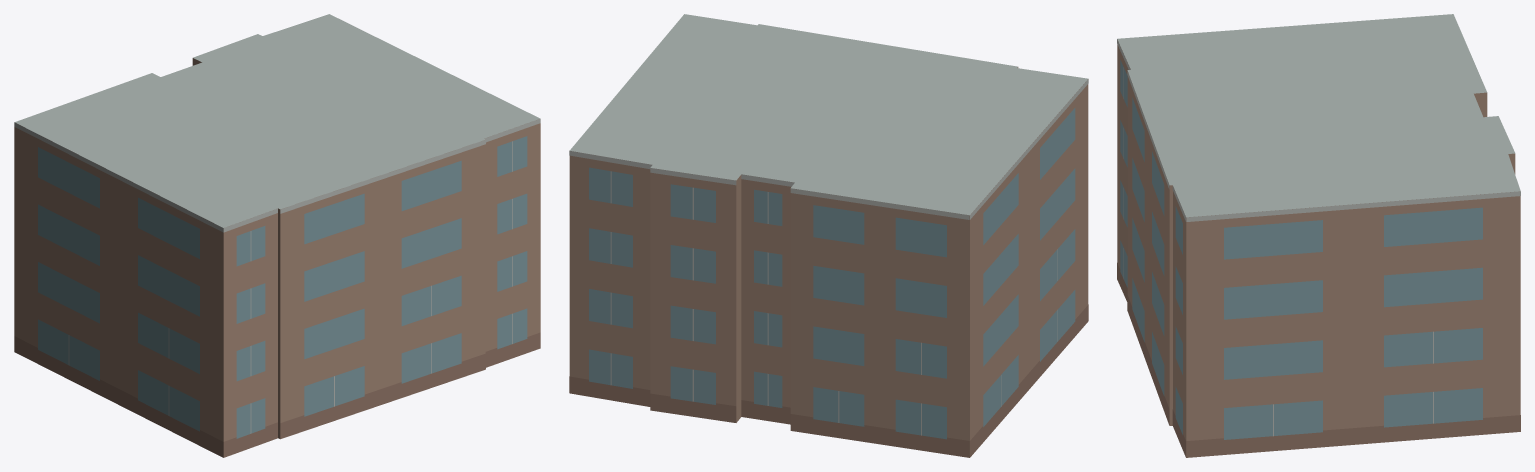
Rendered from survey-upis-32911848.glb.
3 renders of one model, left to right at view 1: azimuth 30°, elevation 25°; view 2: azimuth 150°, elevation 25°; view 3: azimuth 270°, elevation 25°, orthographic. The views are drawn at different scales.
Visible parts, largest first — view 1: survey-upis-32911848.tmp; view 2: survey-upis-32911848.tmp; view 3: survey-upis-32911848.tmp.
Boxes of the visible parts, x1,y1,x2,y2 form: survey-upis-32911848.tmp: [14, 14, 540, 457]; survey-upis-32911848.tmp: [569, 14, 1088, 457]; survey-upis-32911848.tmp: [1117, 14, 1520, 457].
Size of the model in its own units: 22.31 by 12.3 by 18.72.
